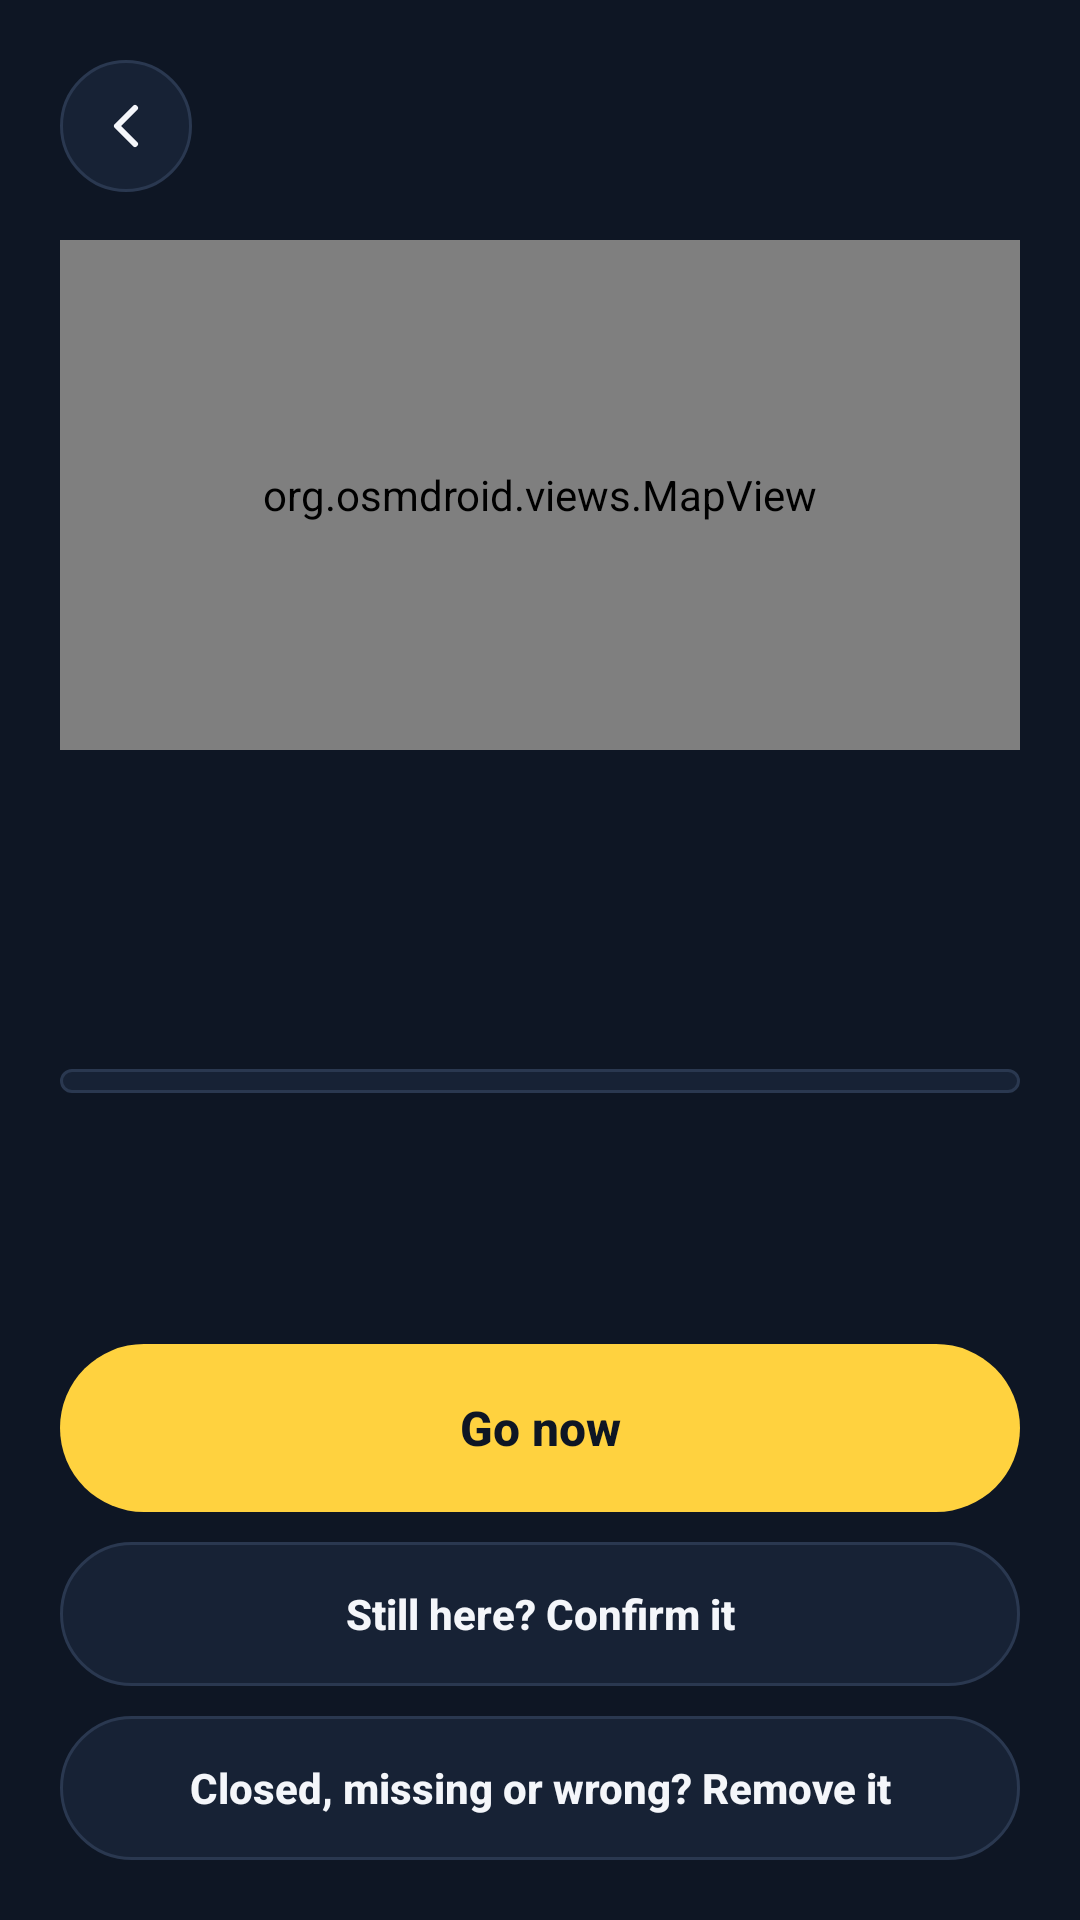

Screen size 1080 x 1920. Icon name, then its box in pixels as (x1, y1, x2, y2):
Back: (60, 60, 192, 192)
